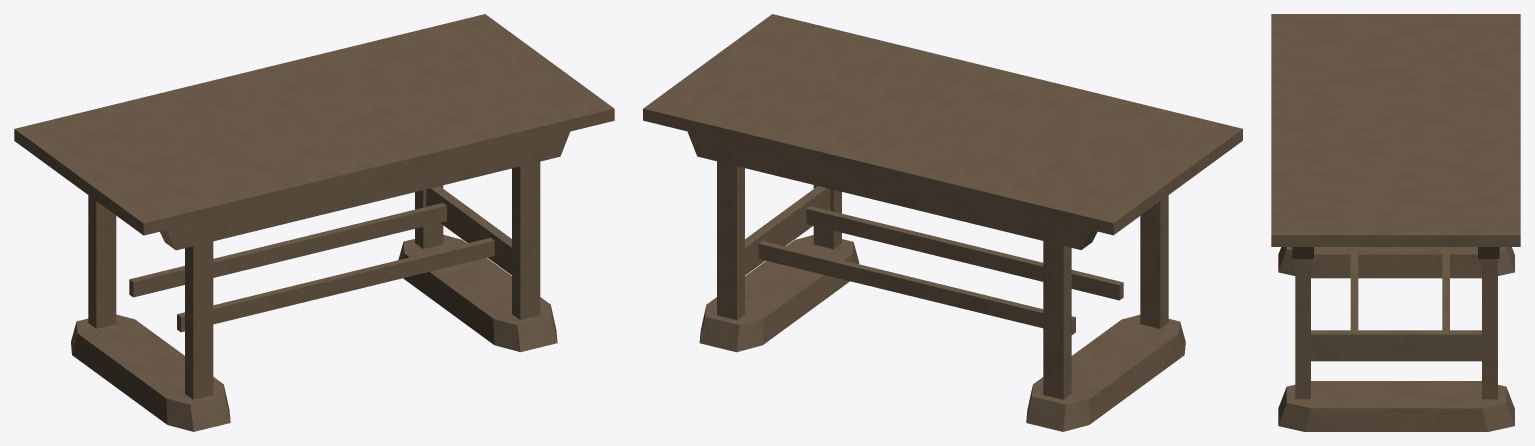
The model's file is Table.fbx.
3 renders of one model, left to right at view 1: azimuth 30°, elevation 25°; view 2: azimuth 150°, elevation 25°; view 3: azimuth 270°, elevation 25°, orthographic. The views are drawn at different scales.
Parts seen in each view (by area): view 1: Cube.020; view 2: Cube.020; view 3: Cube.020.
Boxes of the visible parts, x1,y1,x2,y2 form: Cube.020: [14, 14, 614, 431]; Cube.020: [643, 14, 1242, 431]; Cube.020: [1271, 14, 1520, 431].
Bounding box in the file's own units: 279 × 127 × 133.
